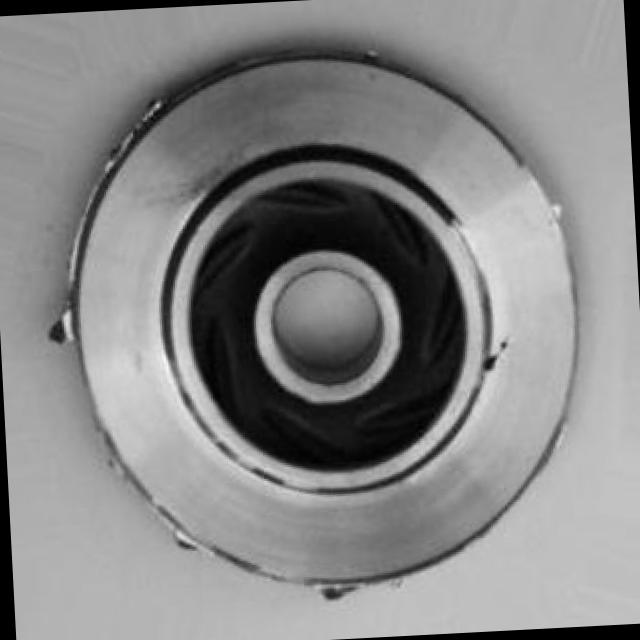Defect: (38, 294, 90, 362)
